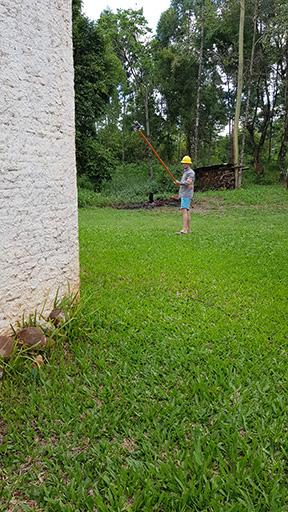Vara_Manobra: (137, 130, 182, 189)
